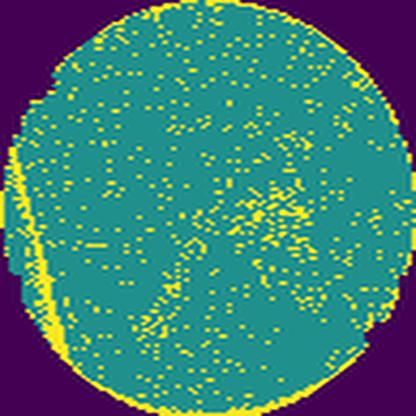Scratch: (6, 144, 74, 365)
